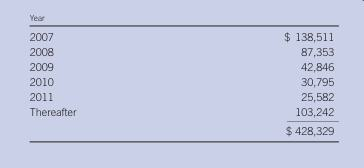table: (28, 29, 333, 136)
table column: (179, 29, 333, 136), (28, 29, 179, 136)
table row: (28, 103, 333, 120), (28, 120, 333, 136), (28, 43, 333, 58), (28, 58, 333, 73), (28, 73, 333, 88), (28, 88, 333, 103), (28, 29, 333, 43)
